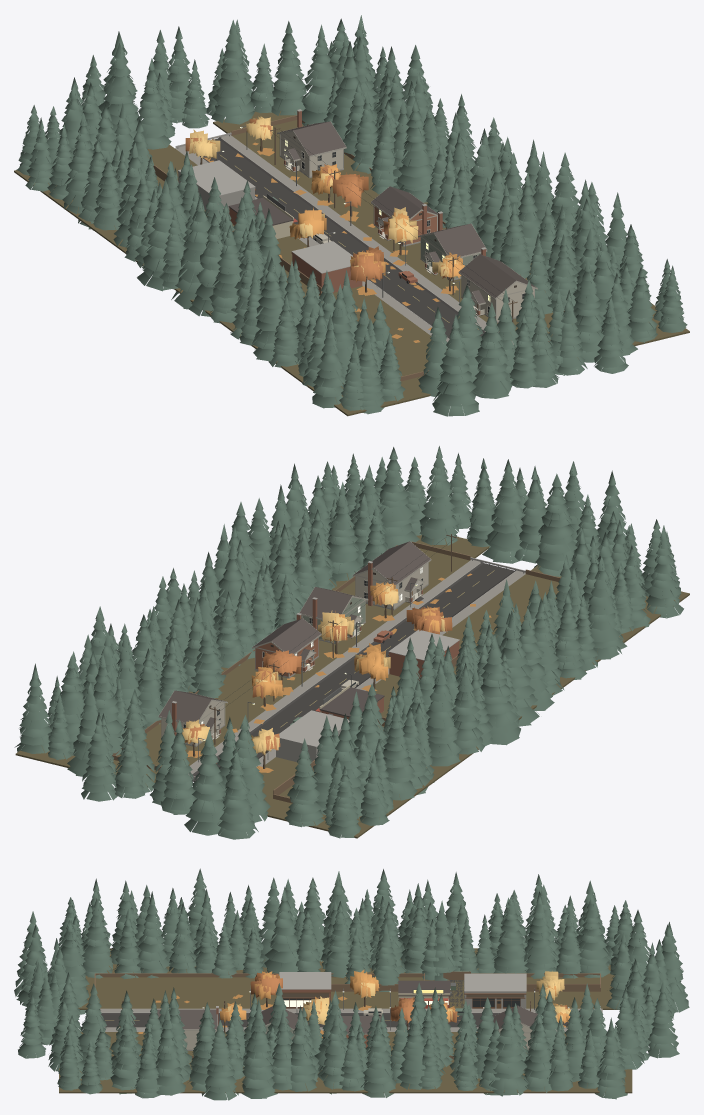
File: town.glb
The picture shows the model from 3 angles, top to bottom: view 1: azimuth 30°, elevation 25°; view 2: azimuth 150°, elevation 25°; view 3: azimuth 270°, elevation 25°; orthographic projection. The views are drawn at different scales.
Parts seen in each view (by area): view 1: Vis_fir_tier, C_lawn, Vis_roof, C_asphalt, C_sidewalk, Vis_coping, Vis_maple_amber, Vis_maple_copper, Vis_maple_orange, Vis_siding_cream, Vis_trim_paint, Vis_brick (+3 smaller); view 2: Vis_fir_tier, C_lawn, Vis_roof, C_asphalt, C_sidewalk, Vis_maple_orange, Vis_maple_copper, Vis_coping, Vis_maple_amber, Vis_trim_paint, Vis_siding_cream, C_fence_wood (+5 smaller); view 3: Vis_fir_tier, C_lawn, Vis_coping, C_fence_wood, Vis_roof, Vis_maple_orange, Vis_maple_amber, C_asphalt, Vis_maple_copper, C_sidewalk, C_roof, Vis_storefront_wood (+4 smaller).
Part boxes in pixels (x1,y1,x2,y2): Vis_fir_tier: [16, 15, 687, 416]; C_lawn: [14, 111, 689, 416]; Vis_roof: [278, 121, 536, 303]; C_asphalt: [203, 138, 484, 338]; C_sidewalk: [175, 135, 513, 344]; Vis_coping: [178, 109, 486, 273]; Vis_maple_amber: [189, 116, 460, 276]; Vis_maple_copper: [185, 117, 451, 282]; Vis_maple_orange: [207, 123, 464, 278]; Vis_siding_cream: [280, 132, 533, 321]; Vis_trim_paint: [277, 122, 537, 321]; Vis_brick: [284, 111, 485, 314]; Vis_fir_tier: [14, 446, 683, 839]; C_lawn: [15, 526, 689, 838]; Vis_roof: [159, 541, 430, 728]; C_asphalt: [191, 563, 514, 781]; C_sidewalk: [188, 559, 525, 774]; Vis_maple_orange: [182, 582, 439, 743]; Vis_maple_copper: [186, 594, 452, 750]; Vis_coping: [171, 561, 459, 747]; Vis_maple_amber: [182, 582, 444, 755]; Vis_trim_paint: [158, 542, 431, 746]; Vis_siding_cream: [162, 563, 427, 744]; C_fence_wood: [112, 541, 560, 803]; Vis_fir_tier: [14, 868, 689, 1100]; C_lawn: [59, 948, 632, 1093]; Vis_coping: [216, 972, 526, 1010]; C_fence_wood: [94, 971, 600, 1059]; Vis_roof: [157, 1005, 537, 1033]; Vis_maple_orange: [220, 969, 570, 1023]; Vis_maple_amber: [225, 971, 570, 1024]; C_asphalt: [100, 980, 583, 1027]; Vis_maple_copper: [250, 971, 567, 1023]; C_sidewalk: [100, 1008, 602, 1031]; C_roof: [398, 980, 450, 996]; Vis_storefront_wood: [282, 992, 526, 1008].
Size of what is drawn, in the model's own units: 87.09 by 23.58 by 159.
